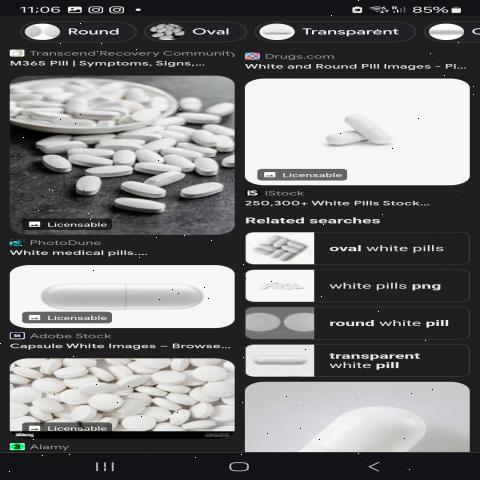Pill: (40, 276, 220, 318), (342, 109, 420, 147), (111, 195, 176, 219), (62, 169, 109, 200), (180, 180, 230, 204), (29, 152, 76, 174), (174, 92, 207, 112)
